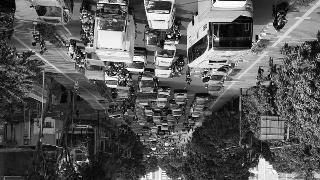mobil: (153, 38, 177, 64), (203, 66, 230, 84), (127, 49, 147, 71), (104, 70, 120, 90), (156, 85, 172, 101), (195, 93, 211, 108), (172, 90, 190, 103)
motor: (270, 1, 290, 33), (78, 0, 94, 26), (172, 16, 182, 43), (65, 39, 77, 59), (176, 55, 186, 75), (74, 46, 82, 64), (186, 71, 192, 85)
truck: (91, 0, 137, 62)
